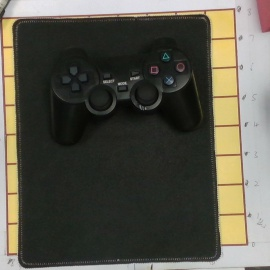remote: (51, 47, 203, 143)
